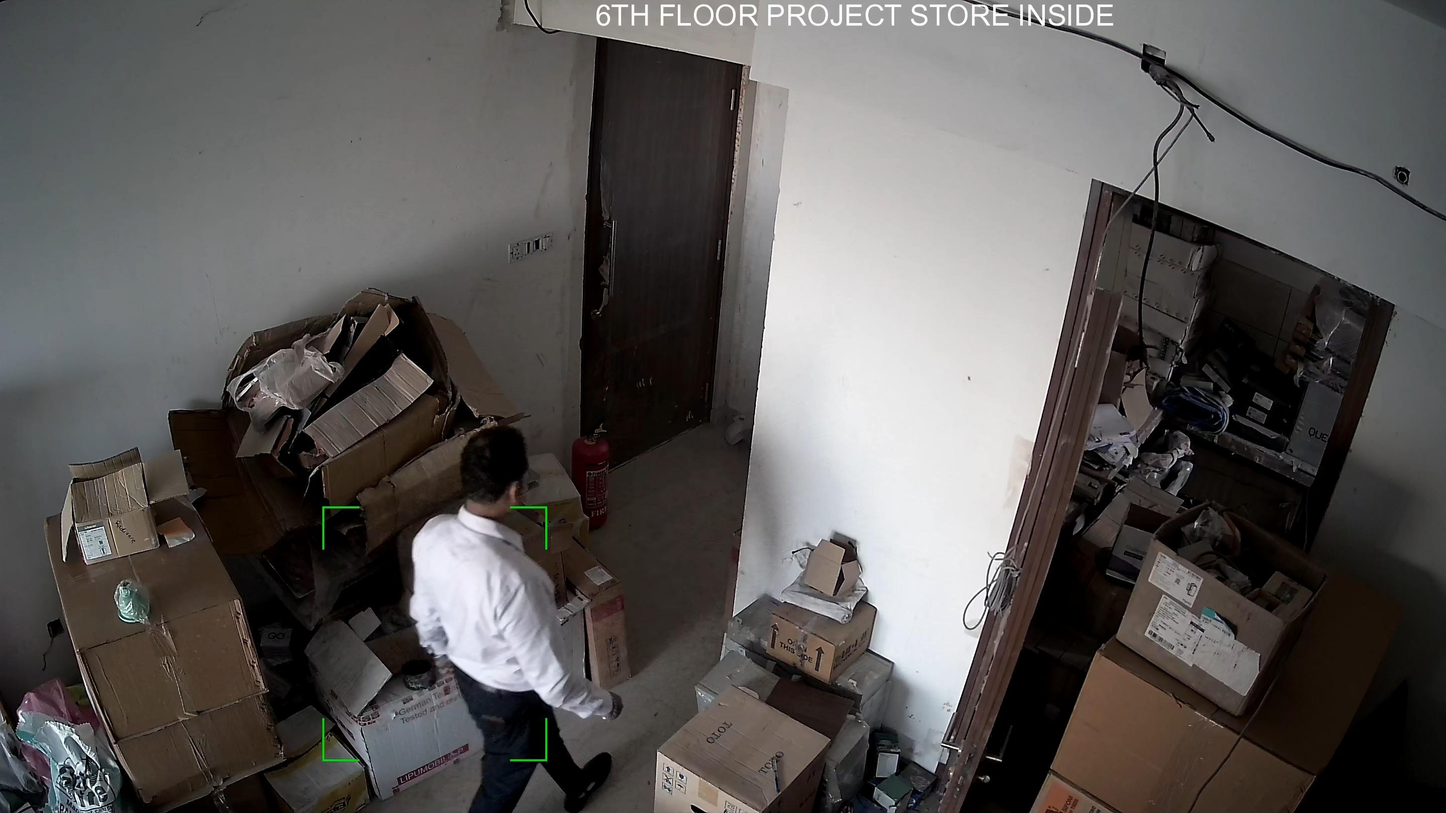Door-Close: (566, 39, 764, 481)
